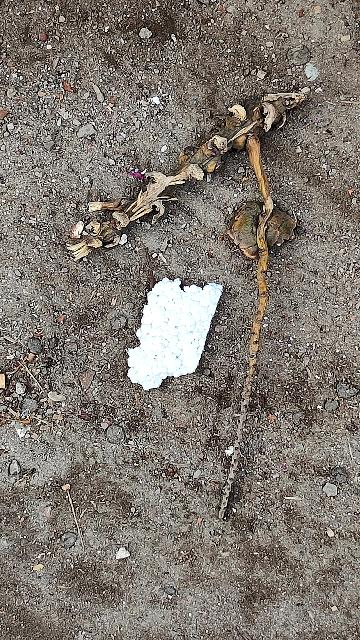cocksheet: (116, 251, 232, 406)
